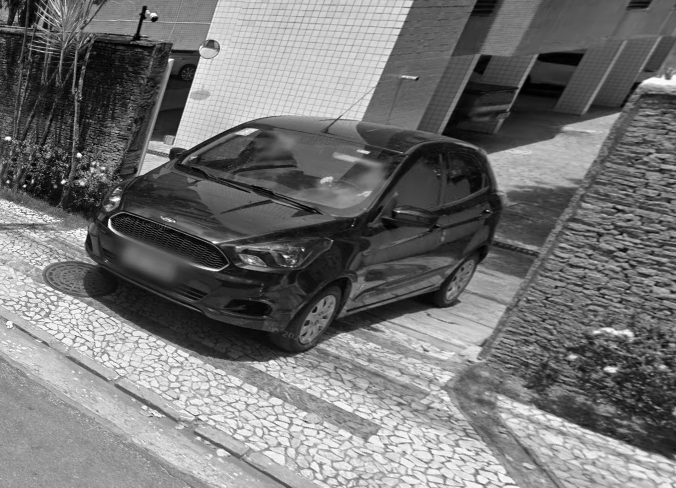car: (81, 82, 505, 360)
